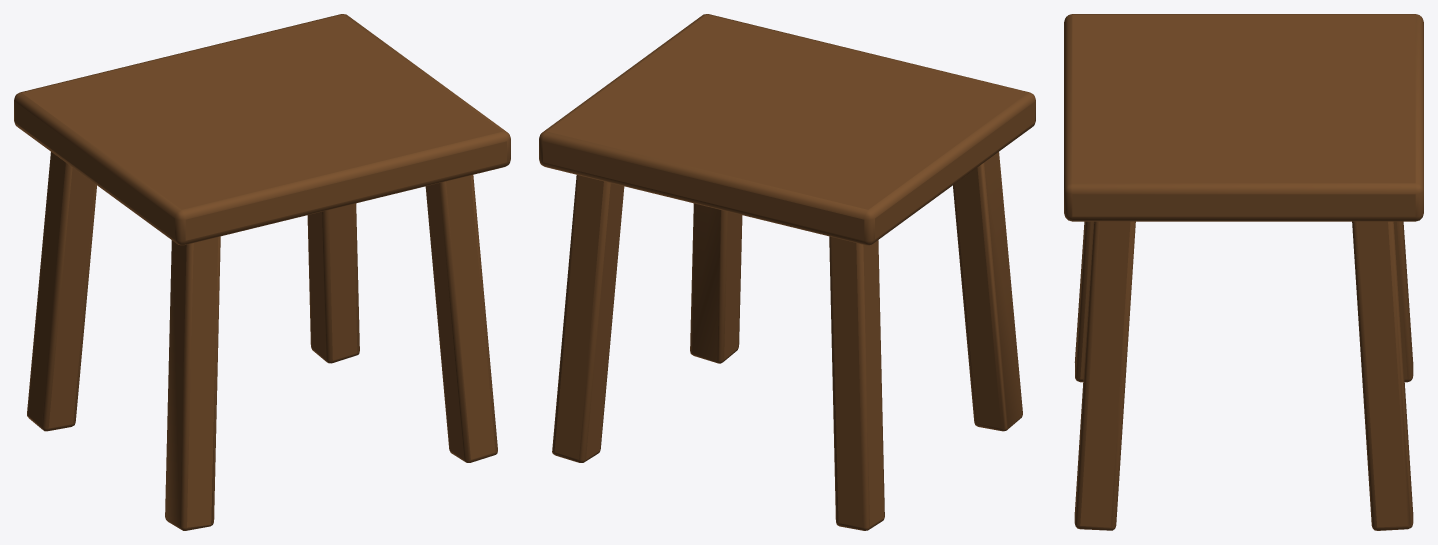
Rendered from ghe_dau.glb.
The picture shows the model from 3 angles, left to right: view 1: azimuth 30°, elevation 25°; view 2: azimuth 150°, elevation 25°; view 3: azimuth 270°, elevation 25°; orthographic projection. The views are drawn at different scales.
Visible parts, largest first — view 1: ghe_dau; view 2: ghe_dau; view 3: ghe_dau.
Boxes of the visible parts, x1,y1,x2,y2 form: ghe_dau: [14, 14, 510, 530]; ghe_dau: [539, 14, 1035, 530]; ghe_dau: [1064, 14, 1423, 530].
Size of the model in its own units: 0.3 by 0.2809 by 0.26.
